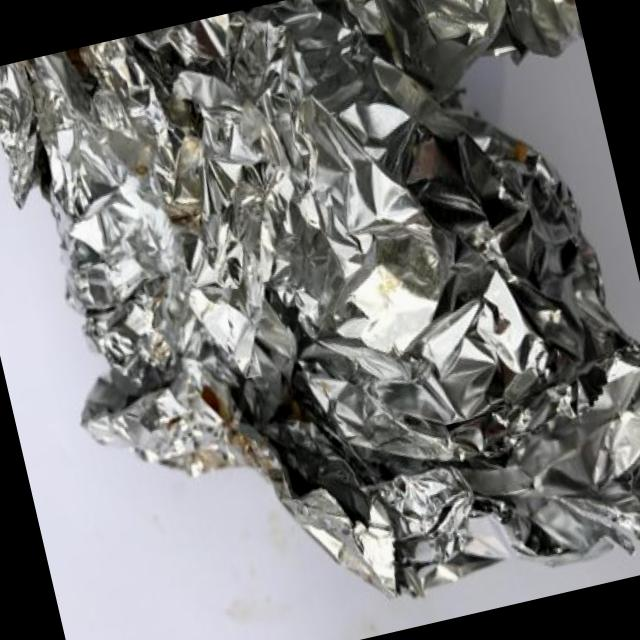nhom: (0, 0, 640, 597)
